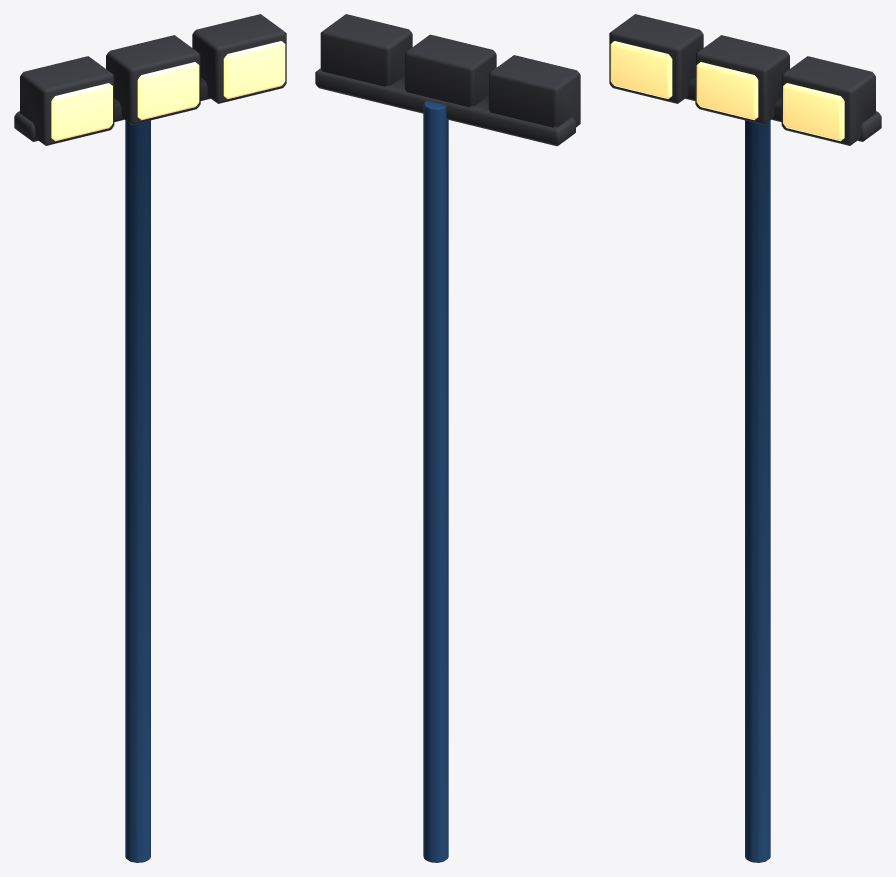
The model's file is speedway_speedway_floodlight.glb.
3 renders of one model, left to right at view 1: azimuth 30°, elevation 25°; view 2: azimuth 150°, elevation 25°; view 3: azimuth 330°, elevation 25°, orthographic. The views are drawn at different scales.
Visible parts, largest first — view 1: Floodlight mast; view 2: Floodlight mast; view 3: Floodlight mast.
Boxes of the visible parts, bbox=[...] form: Floodlight mast: bbox=[14, 14, 286, 862]; Floodlight mast: bbox=[315, 14, 580, 862]; Floodlight mast: bbox=[609, 14, 881, 862].
Bounding box in the file's own units: 1.64 × 5.08 × 0.4382.
